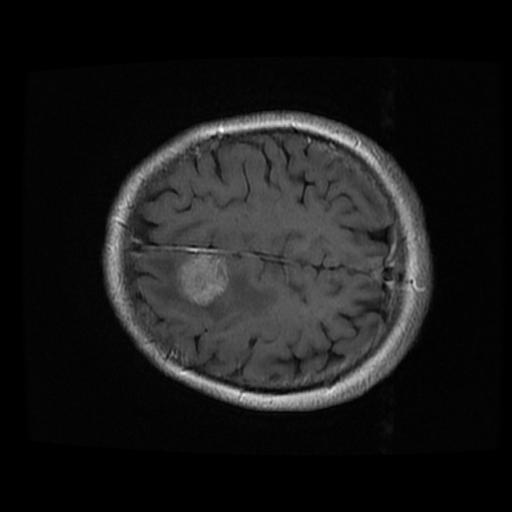meningioma: (175, 256, 224, 302)
